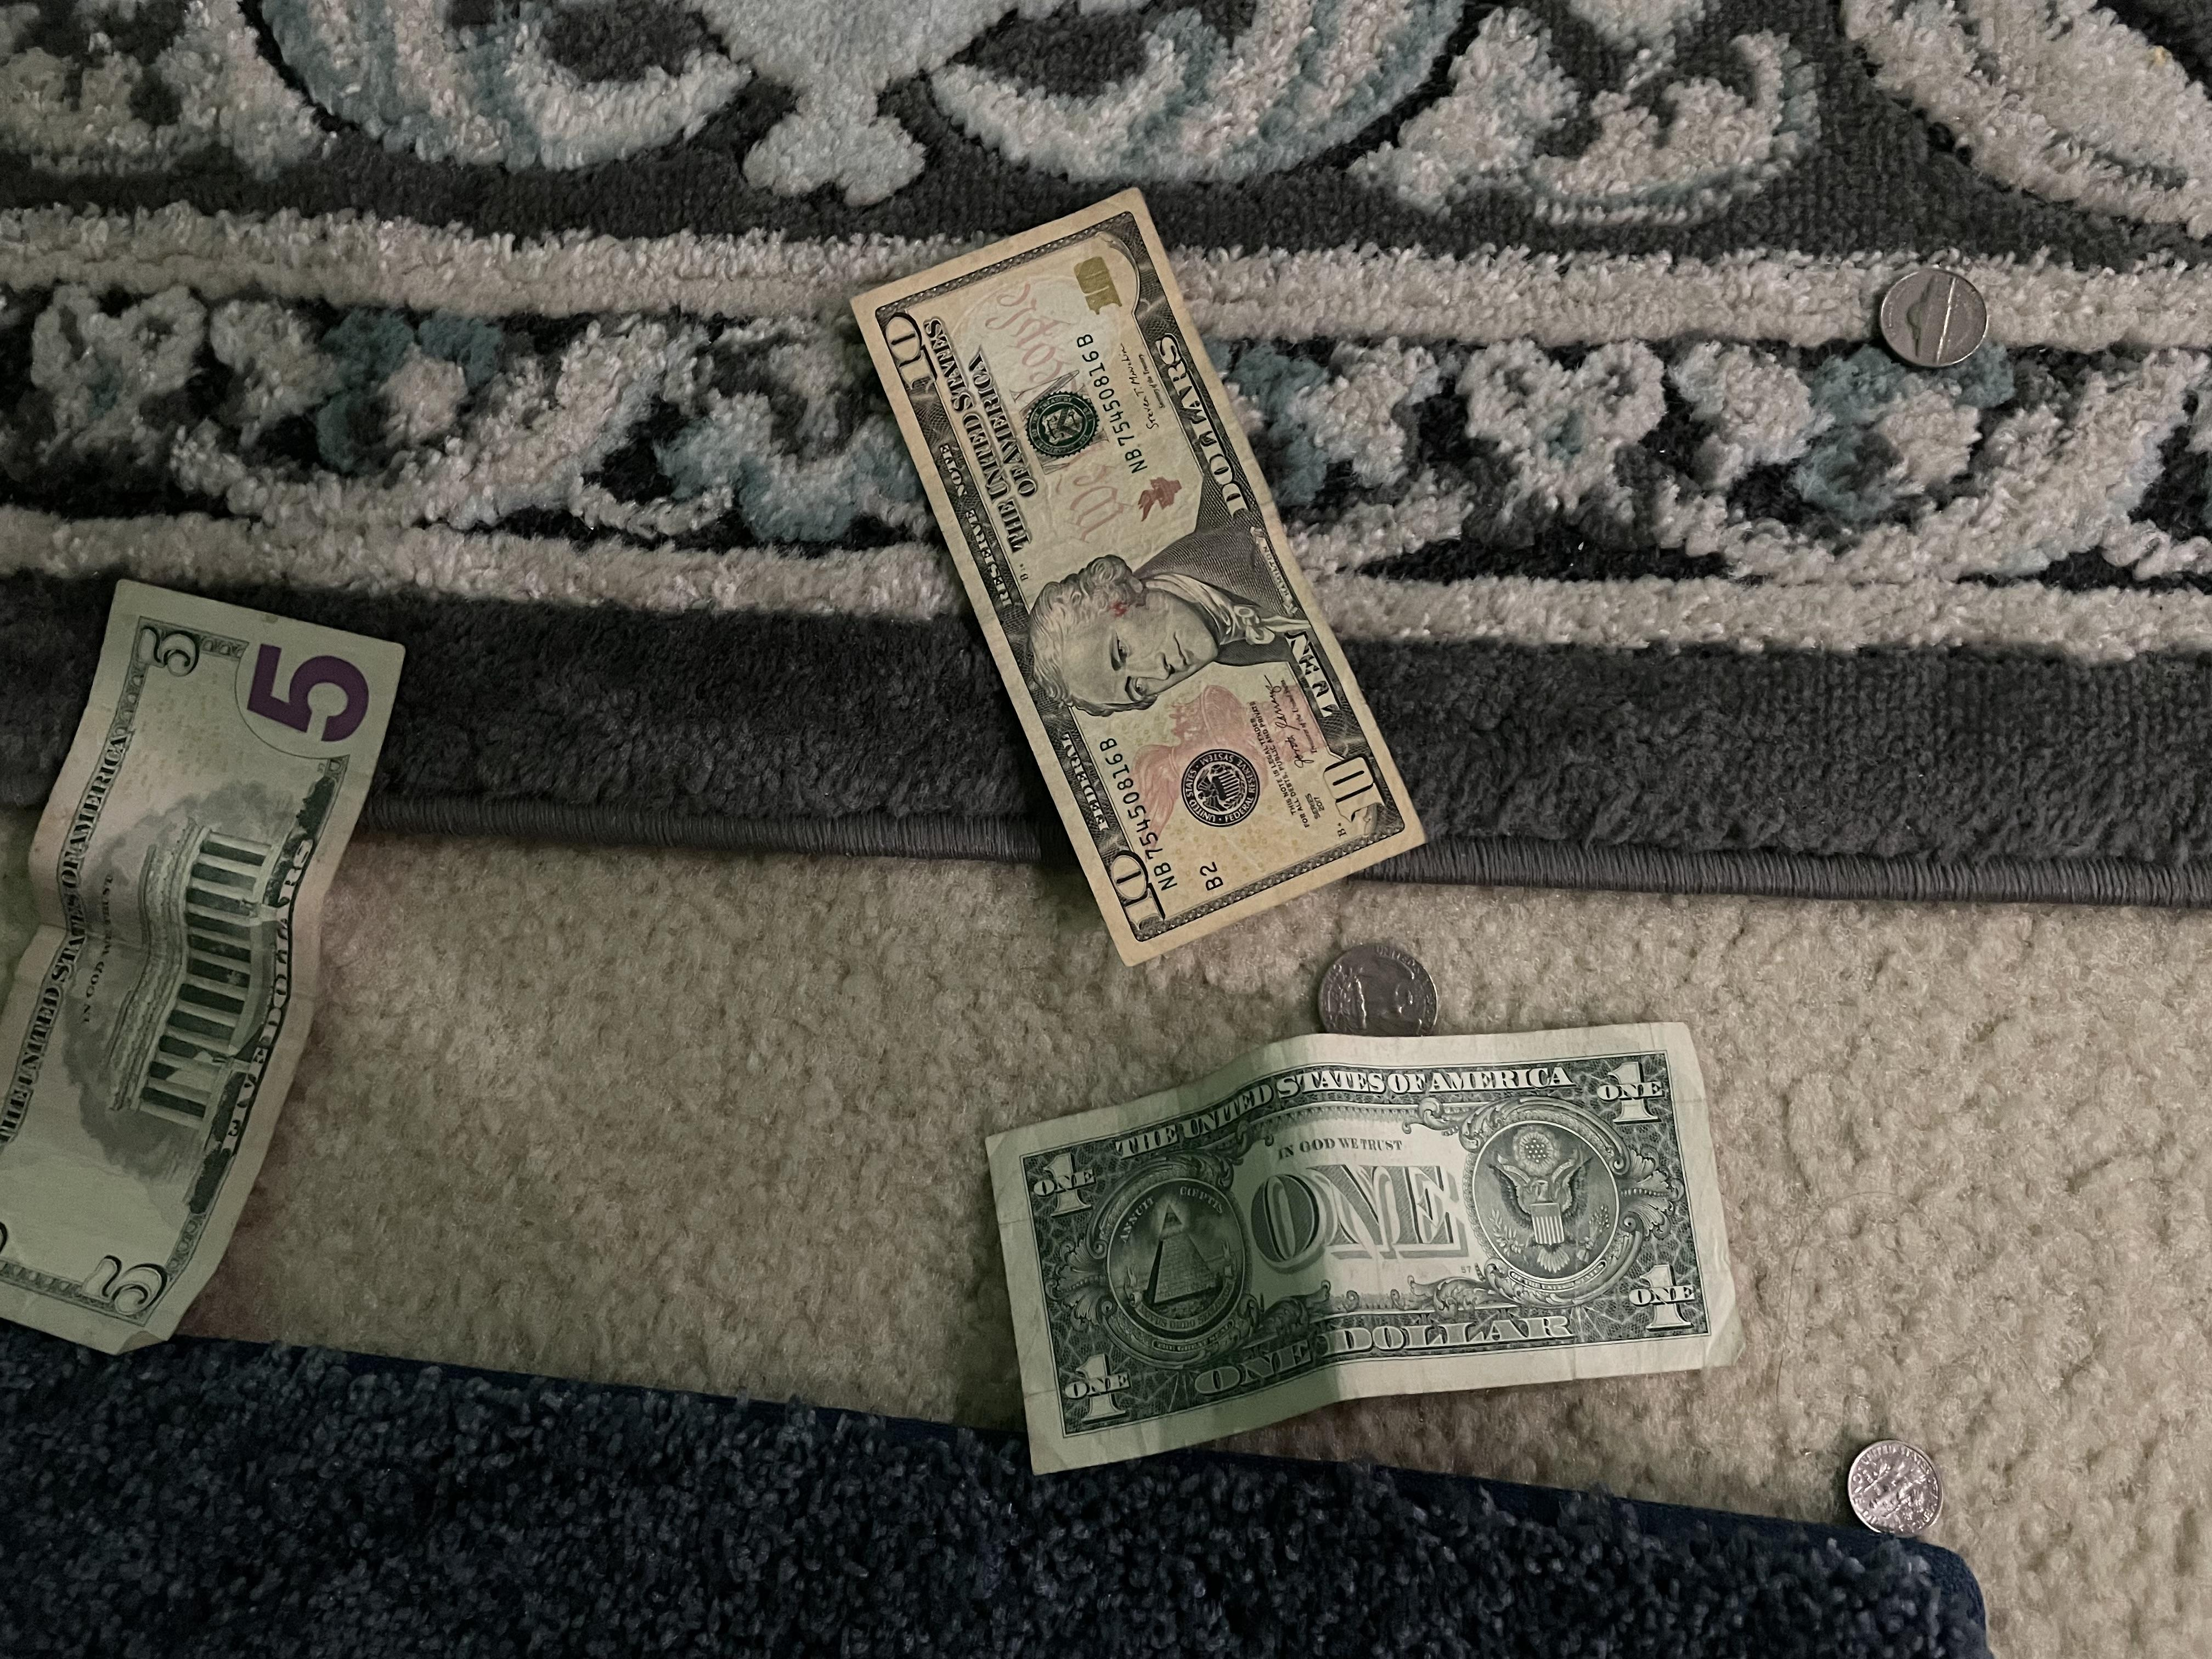Dime: (1831, 1427, 1951, 1546)
FiveBill: (7, 570, 416, 1358)
Nickel: (1869, 260, 1991, 378)
OneBill: (981, 1021, 1750, 1467)
Quarter: (1313, 941, 1453, 1060)
TenBill: (843, 183, 1430, 983)
